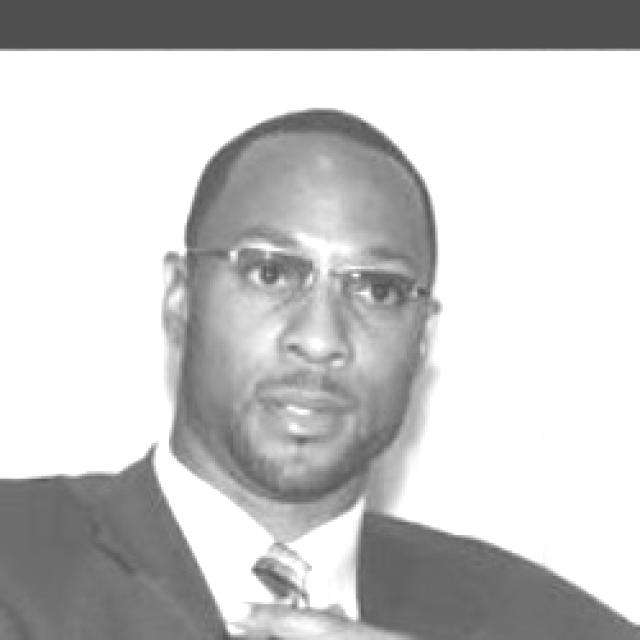real: (183, 136, 429, 486), (218, 231, 427, 329)
